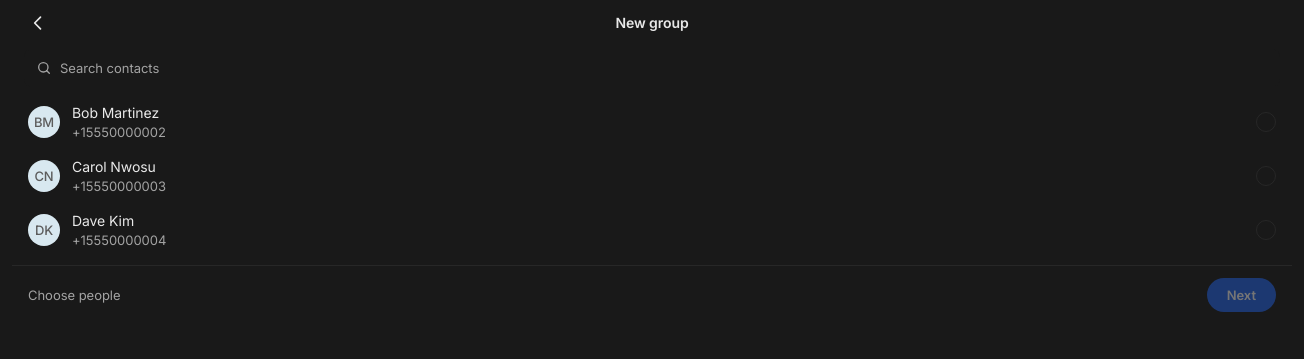
Test: NewGroupPanel › lets me deselect someone
The width and height of the screenshot is (1304, 359).
Click the text "Bob Martinez" at point(116, 112), box [72,104,159,121]
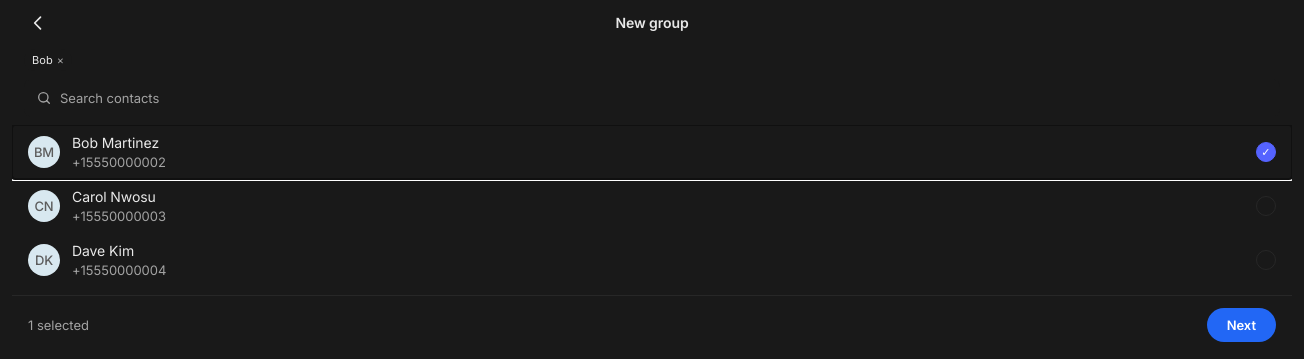
Click the text "Bob Martinez" at point(116, 142), box [72,134,159,151]
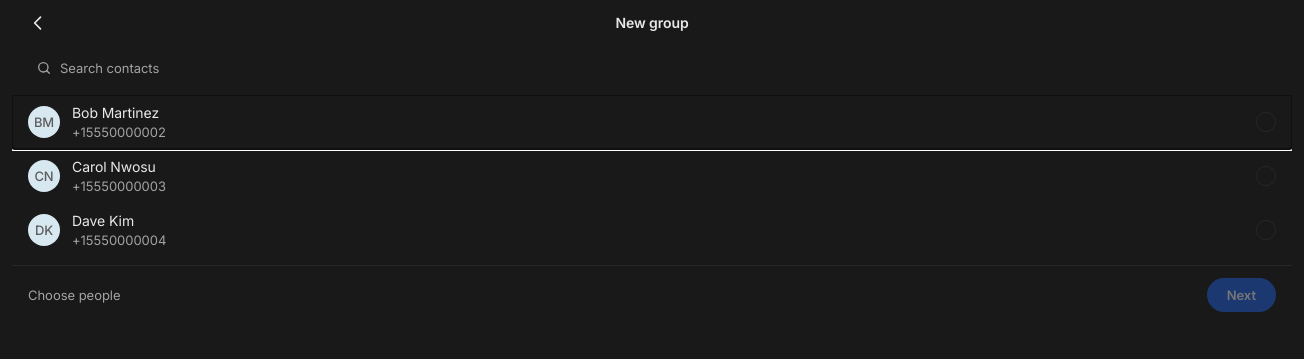
Expected: no buttons with test id "selected-pill" are shown
